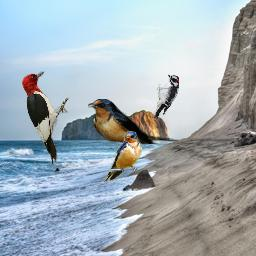Swallow: (88, 99, 179, 144), (103, 131, 142, 182)
Woodpecker: (21, 70, 69, 164), (153, 74, 179, 120)
